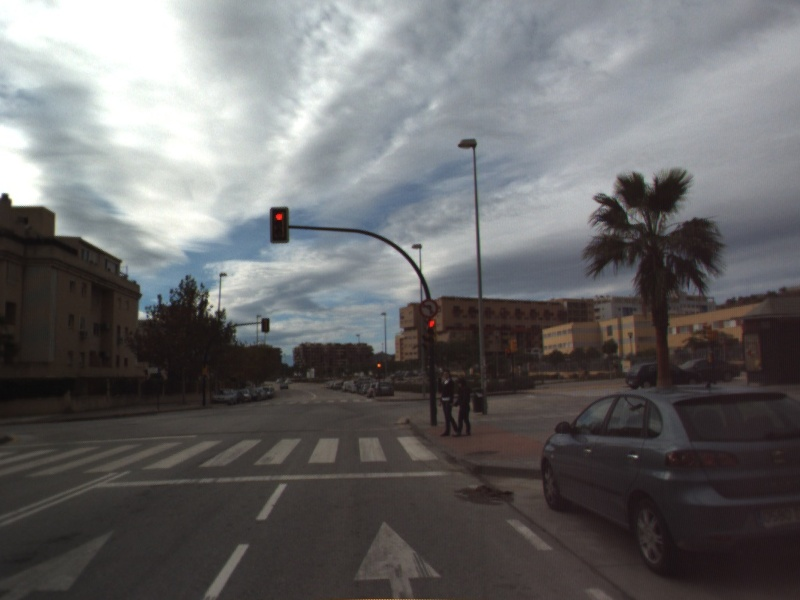STRAIGHT: (1, 526, 119, 600), (350, 518, 445, 600)
